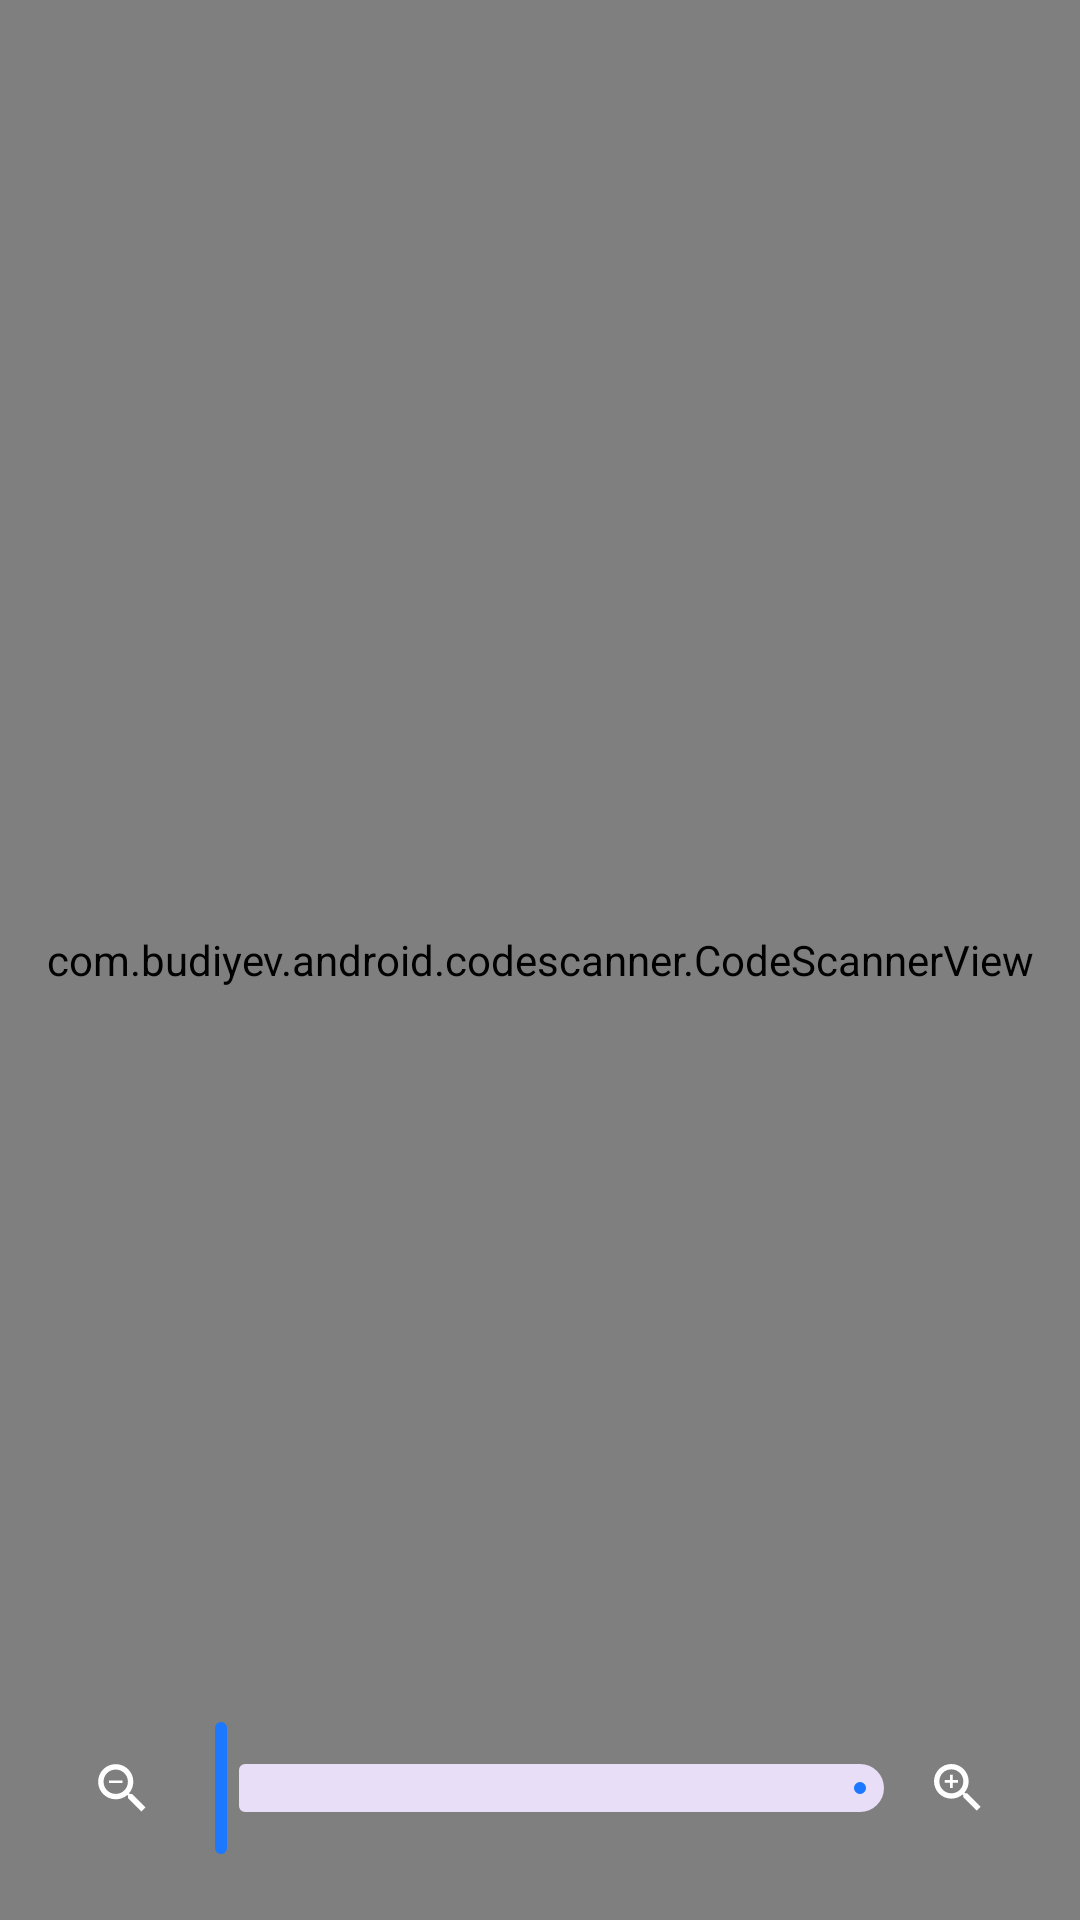

Icons on this 1080 x 1920 Android screen, each with the point to tap as (x=x, y=y):
zoom in: (x=957, y=1787)
zoom out: (x=122, y=1788)
